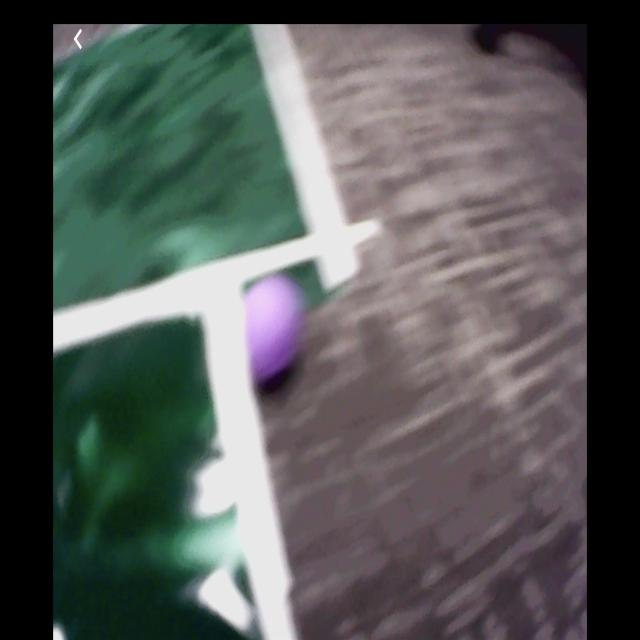ball: (233, 279, 304, 381)
